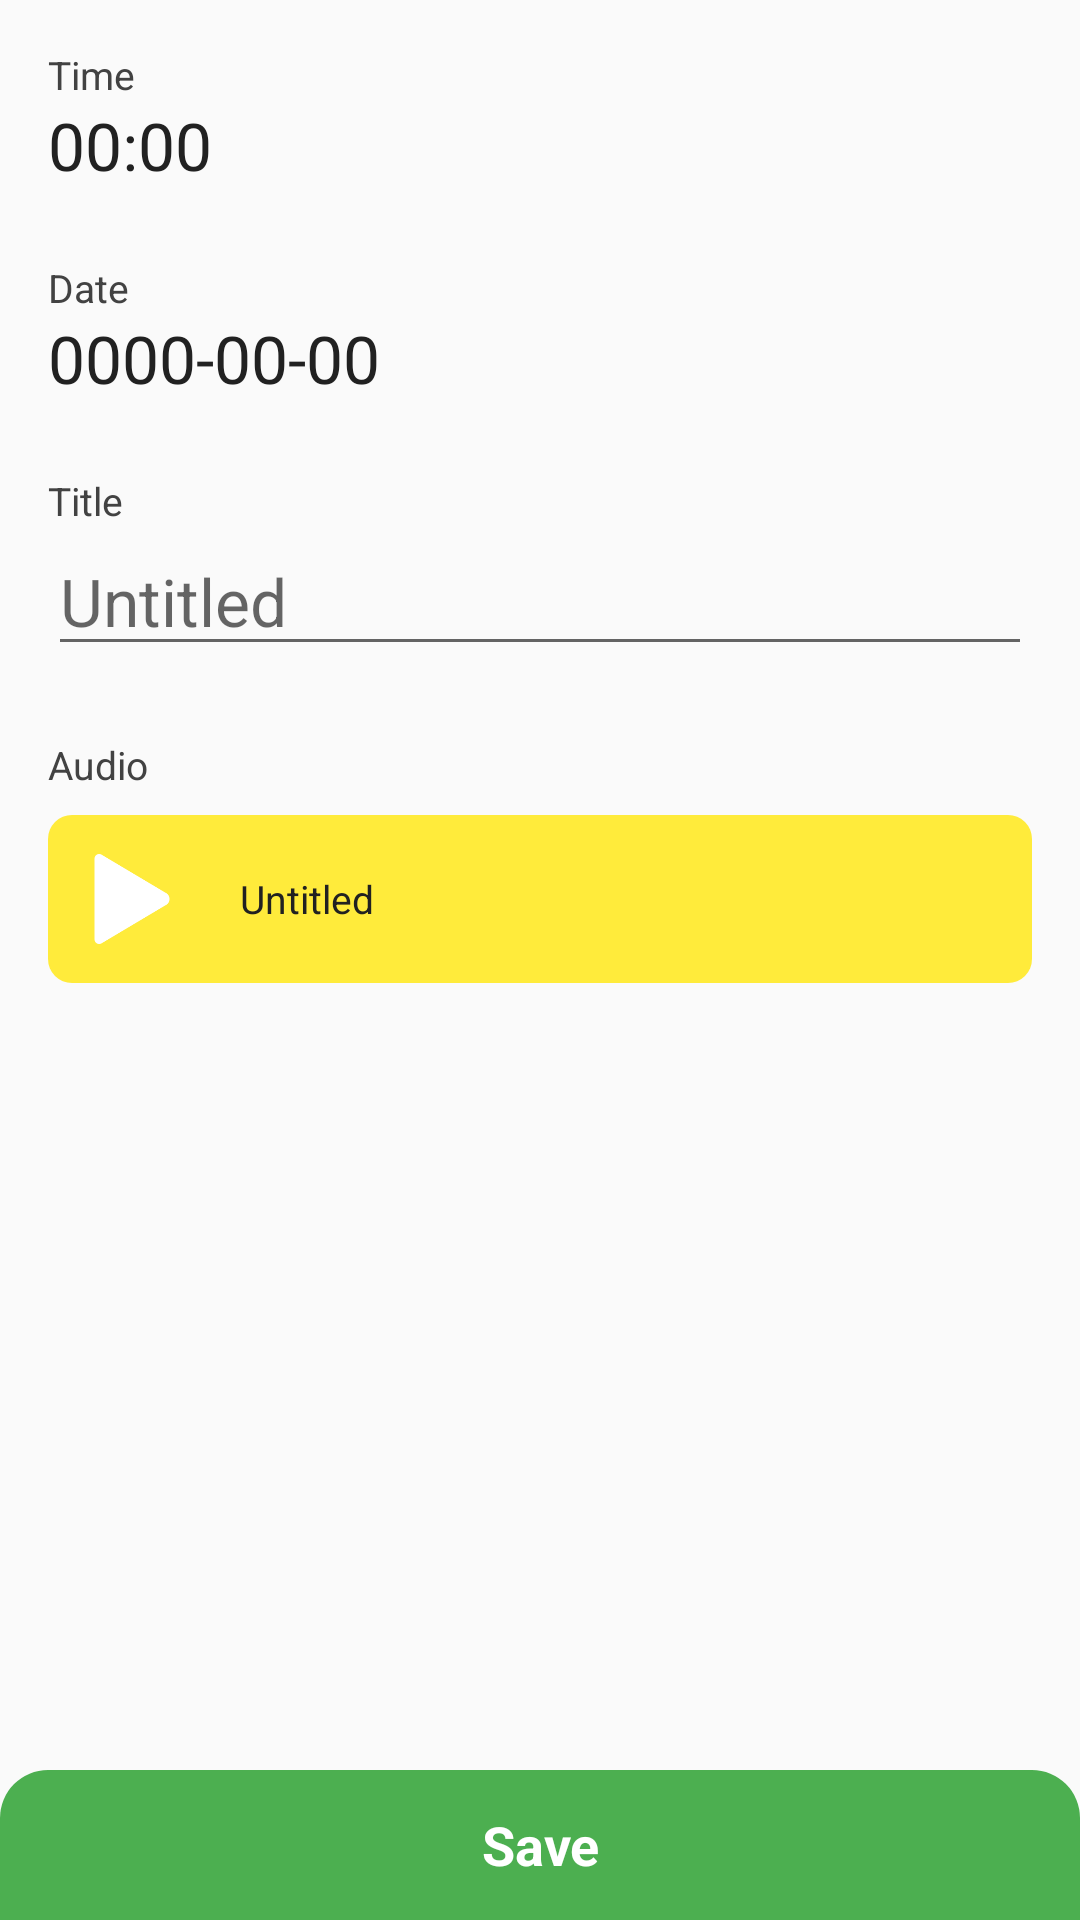

Named icons in this screenshot (1080px x 1920px) and their bounding boxes, detection(x1, y1, x2, y2):
play: detection(94, 854, 170, 944)
